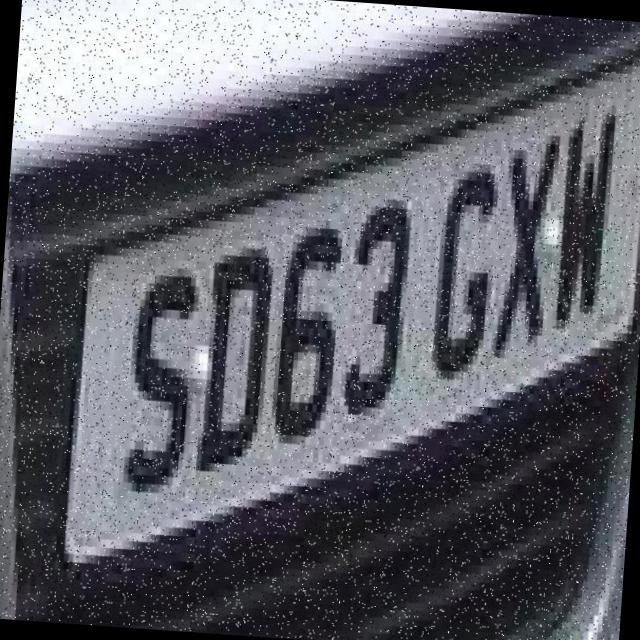LicensePlate: (68, 0, 640, 588)
